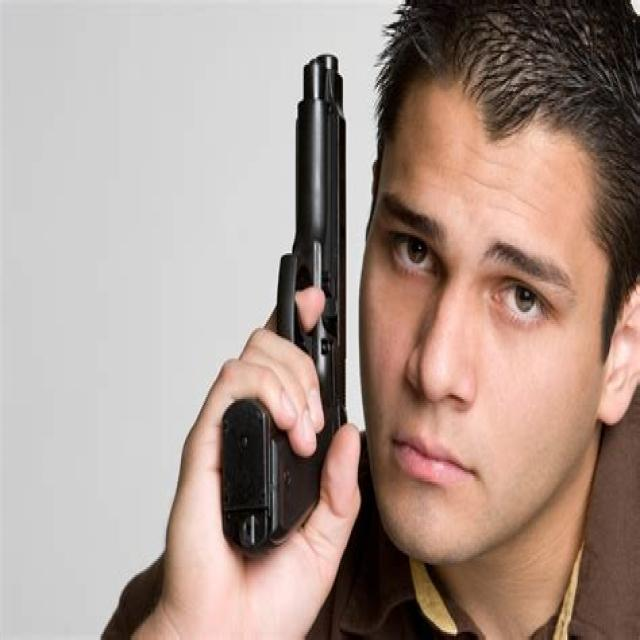weapons: (219, 20, 375, 583)
